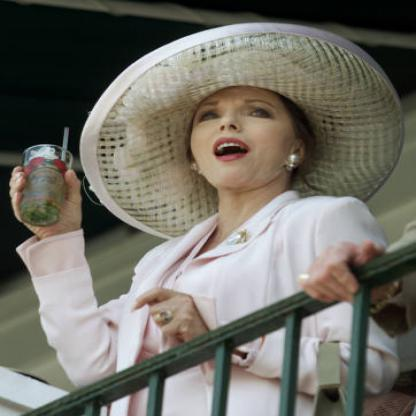face: (187, 64, 299, 192)
